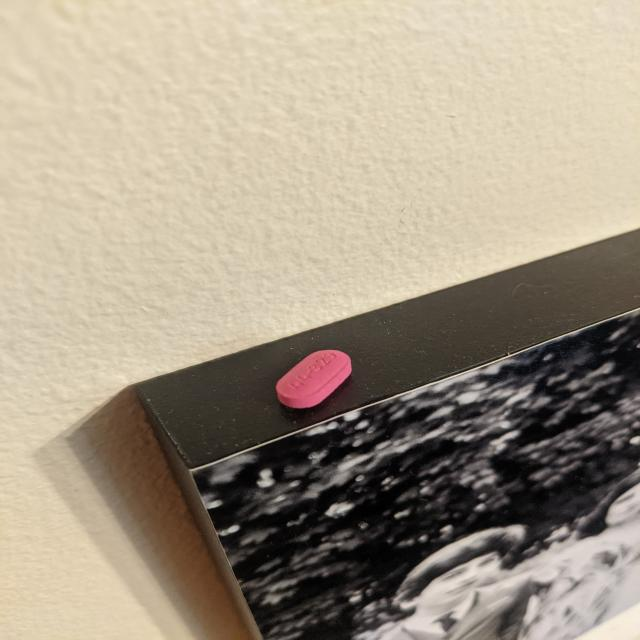non-organic waste: (275, 349, 354, 410)
